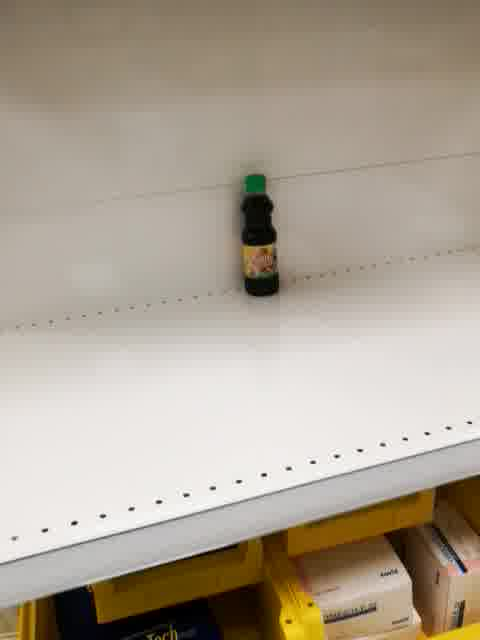cookingoil: (238, 172, 281, 298)
